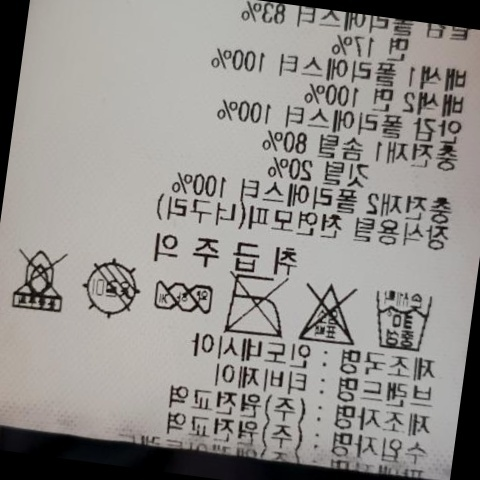DN_iron: (220, 271, 292, 343)
hand_wash: (364, 283, 434, 357)
line_dry_in_shade: (76, 254, 141, 322)
non_chlorine_bleach: (291, 270, 363, 349)
wring: (146, 272, 215, 319)
